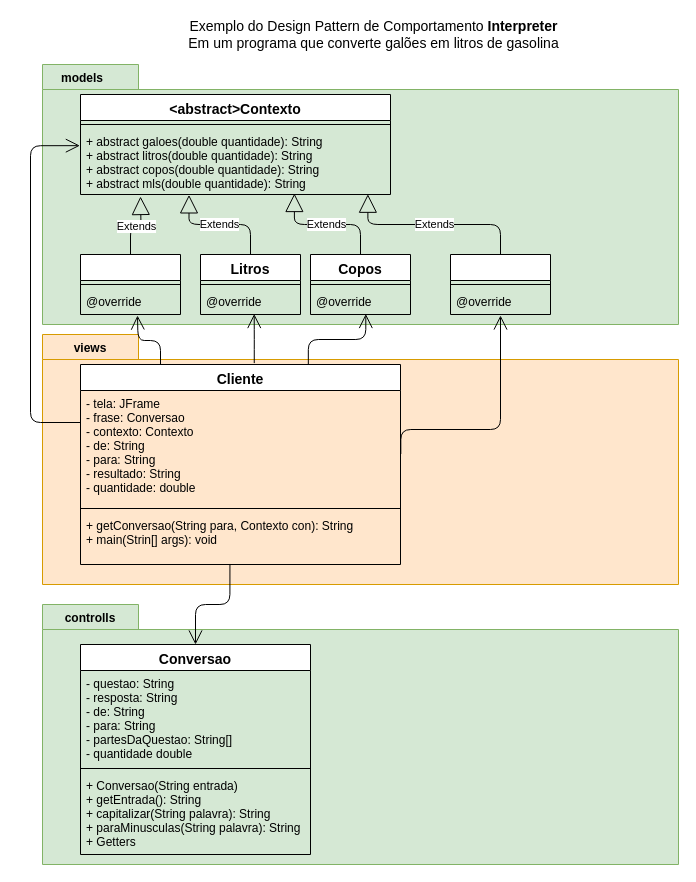
Some shapes in this 696 by 882 pixel diagram are drawn without their labels. The box of each missing label's shape, as (x1, y1, x2, y2) in pixels:
Galoes: (80, 254, 180, 314)
Mls: (450, 254, 550, 314)
